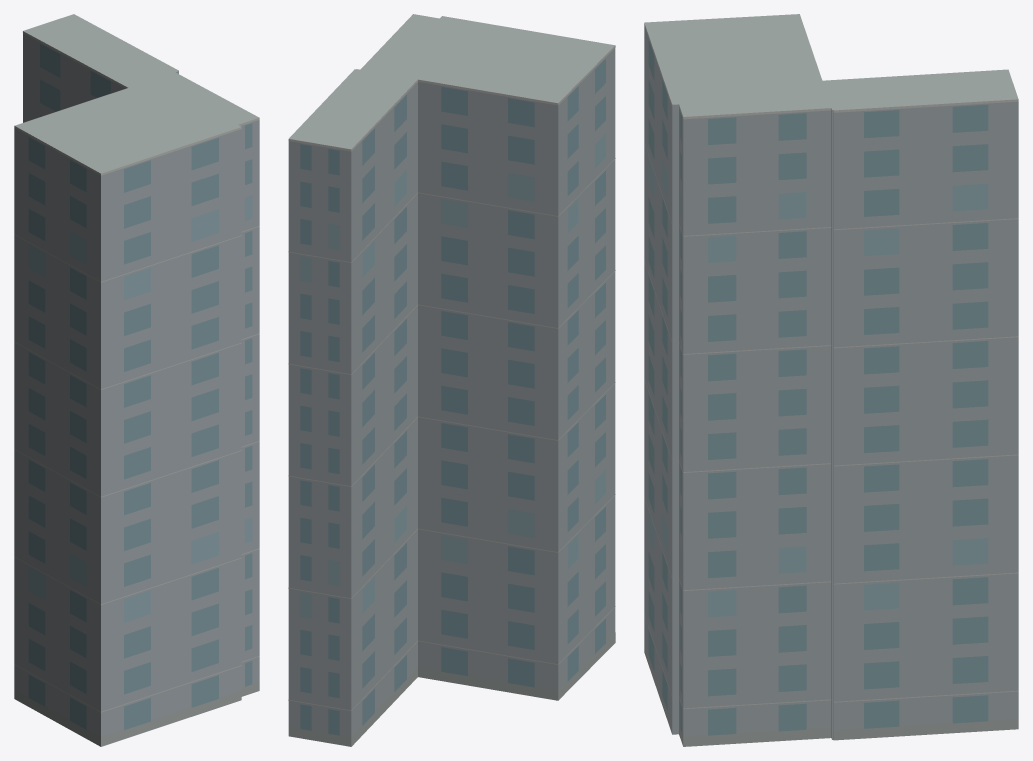
File: survey-upis-32705264.glb
The picture shows the model from 3 angles, left to right: view 1: azimuth 30°, elevation 25°; view 2: azimuth 150°, elevation 25°; view 3: azimuth 270°, elevation 25°; orthographic projection. The views are drawn at different scales.
Visible parts, largest first — view 1: survey-upis-32705264.tmp; view 2: survey-upis-32705264.tmp; view 3: survey-upis-32705264.tmp.
Part boxes in pixels (bbox=[...]): survey-upis-32705264.tmp: bbox=[14, 14, 259, 746]; survey-upis-32705264.tmp: bbox=[288, 14, 615, 746]; survey-upis-32705264.tmp: bbox=[644, 14, 1018, 746].
Bounding box in the file's own units: 22.81 × 64.97 × 35.02.
